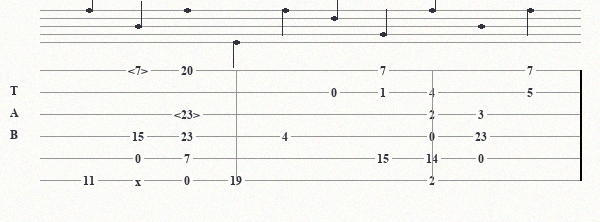0: (135, 152, 145, 165), (184, 174, 194, 187), (331, 86, 341, 99), (429, 130, 439, 143), (478, 152, 488, 165)
1: (380, 86, 390, 99)
11: (83, 174, 99, 187)
14: (426, 152, 442, 165)
15: (132, 130, 148, 143), (377, 152, 393, 165)
19: (230, 174, 246, 187)
2: (429, 108, 439, 121), (429, 174, 439, 187)
20: (181, 64, 197, 77)
23: (181, 130, 197, 143), (475, 130, 491, 143)
3: (478, 108, 488, 121)
4: (282, 130, 292, 143), (429, 86, 439, 99)
5: (527, 86, 537, 99)
7: (184, 152, 194, 165), (380, 64, 390, 77), (527, 64, 537, 77)
harmonic: (174, 108, 204, 121), (128, 64, 152, 77)
x: (135, 175, 145, 185)
